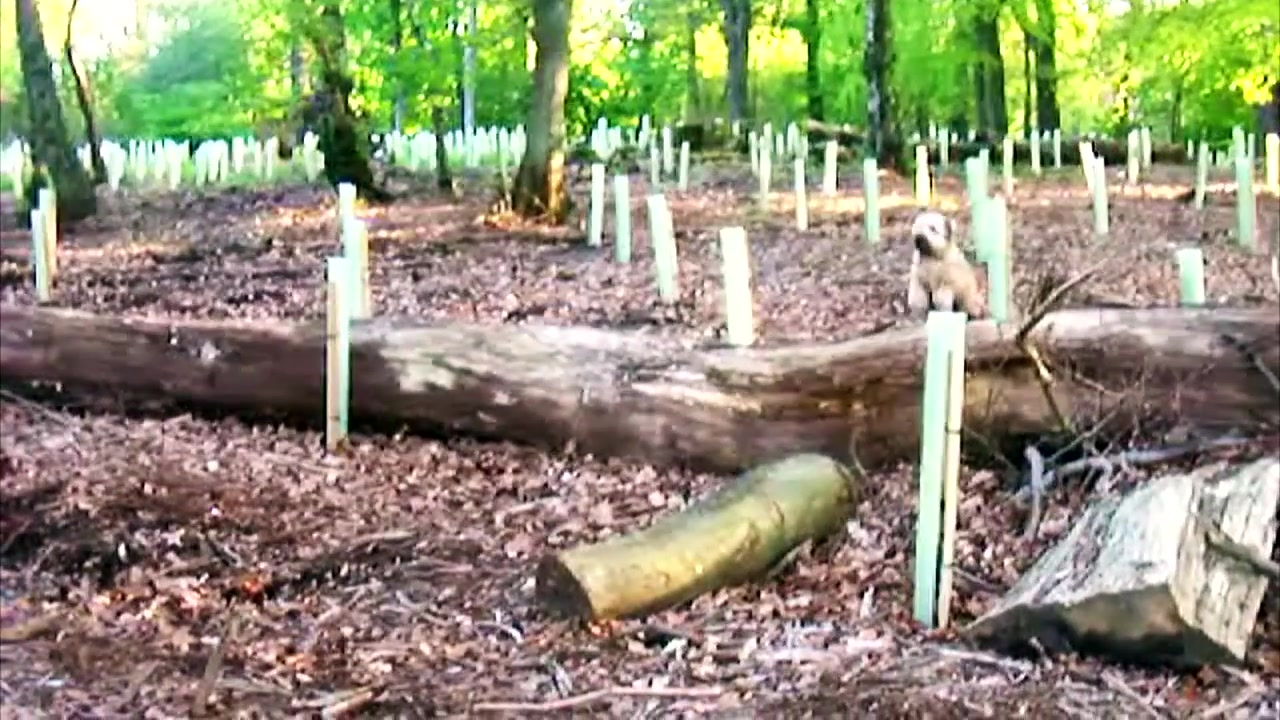dog: (905, 212, 986, 321)
